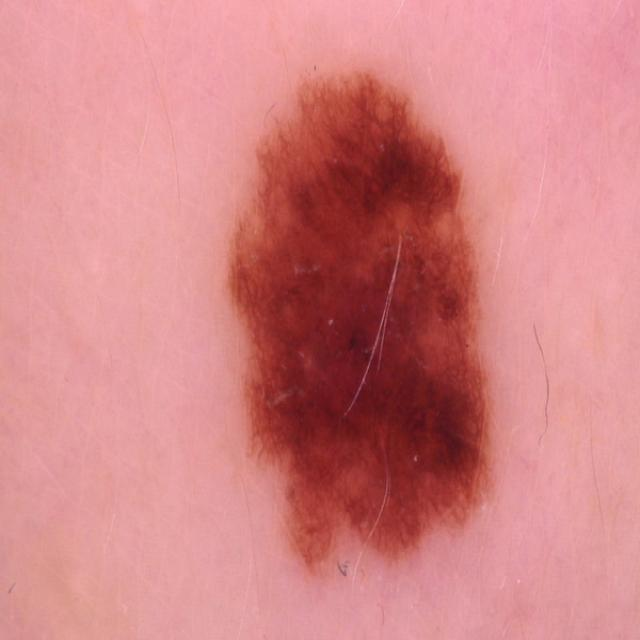NV: (220, 64, 497, 580)
